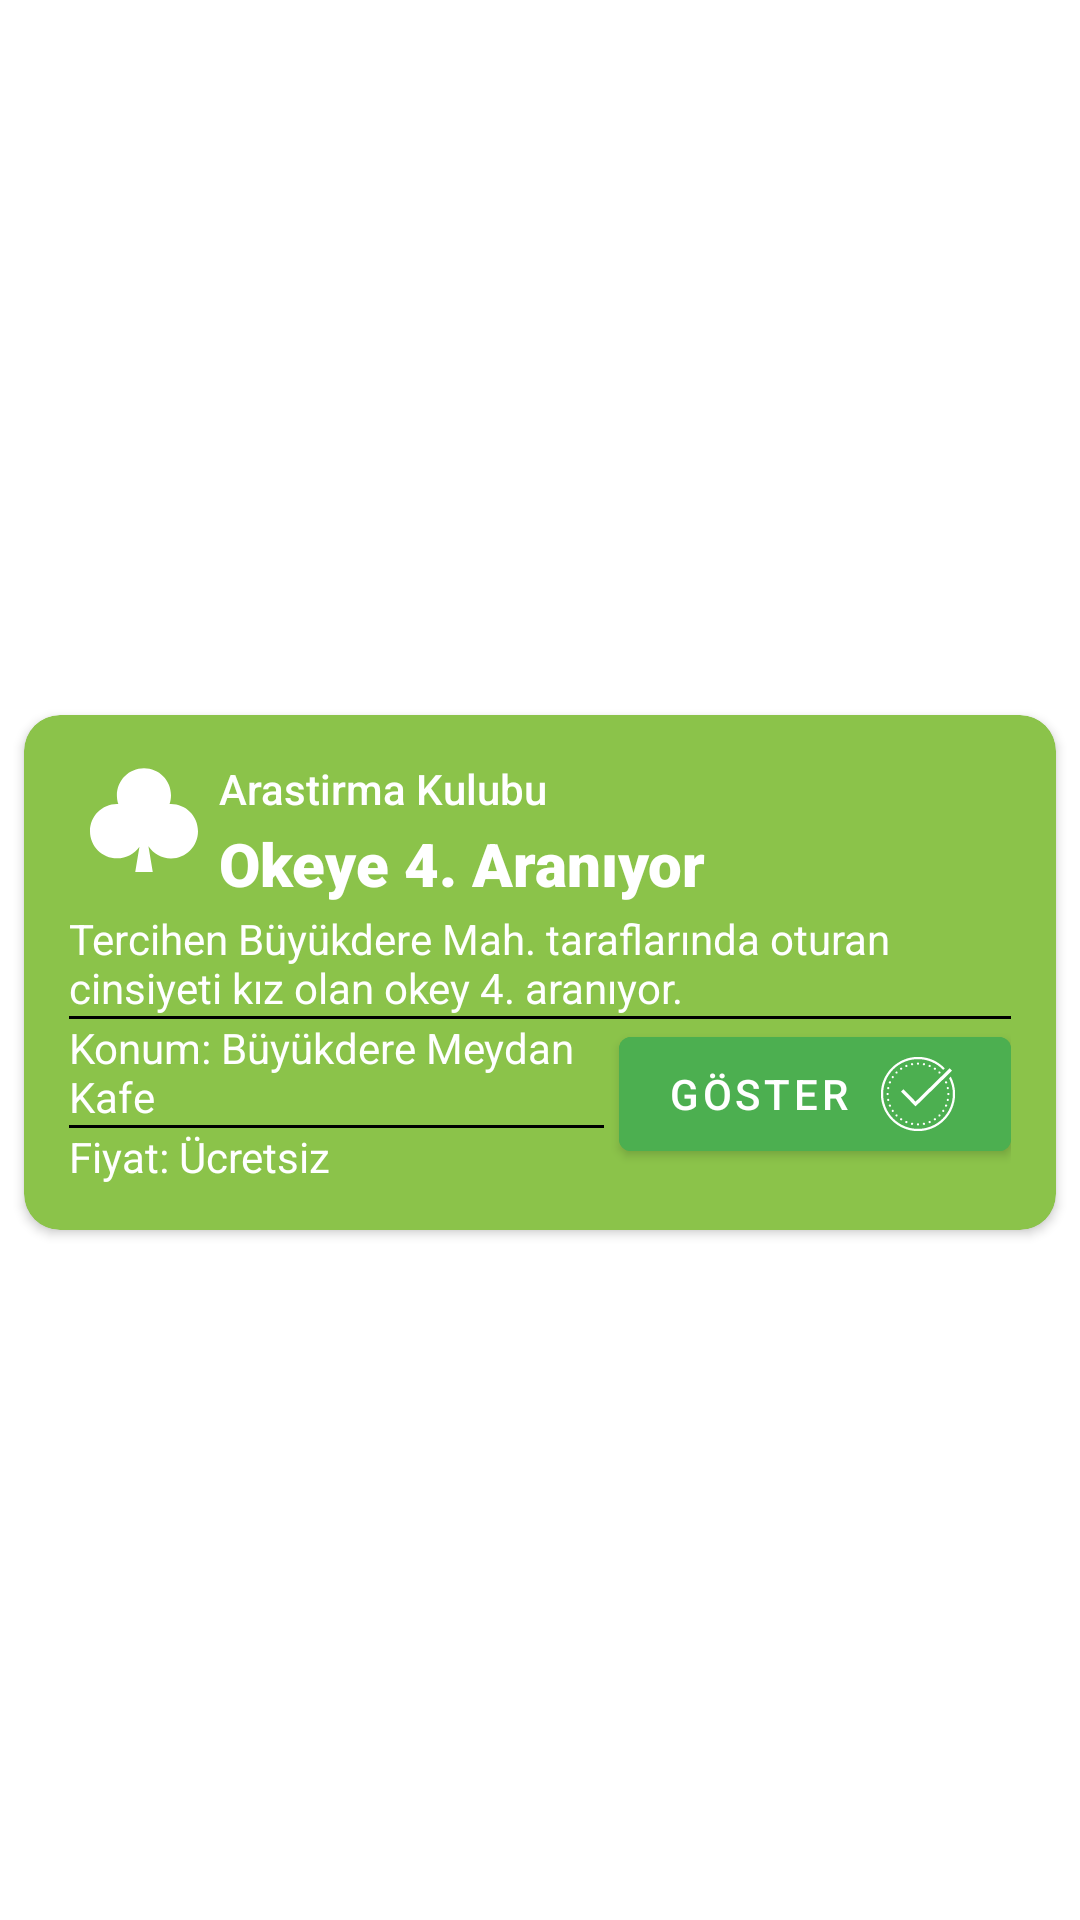

Where to tap for icons on this 1080px x 1920px app screen, as (x=x, y=y):
club activities: (x=144, y=820)
